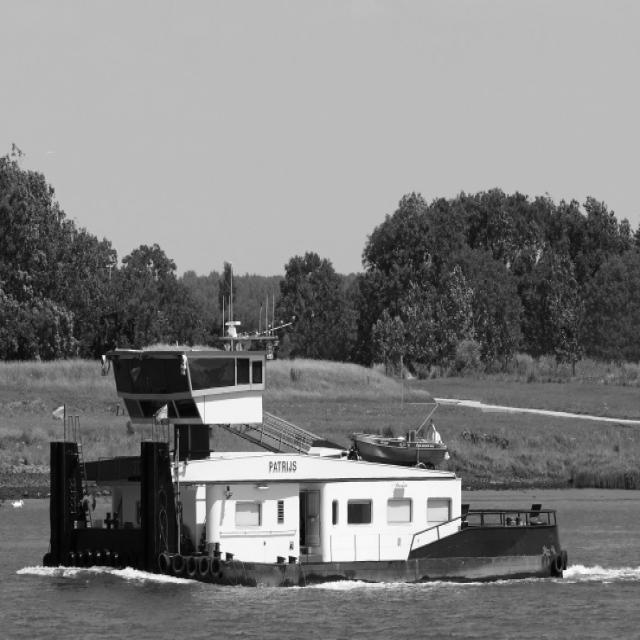tugboat: (46, 315, 571, 595)
